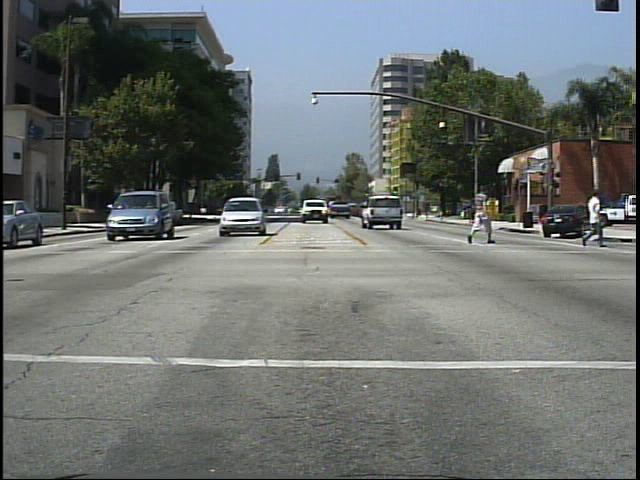person: (576, 183, 612, 254), (466, 181, 496, 249)
